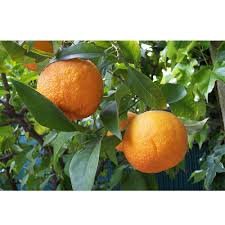orange: (122, 109, 191, 172), (34, 61, 105, 120)
